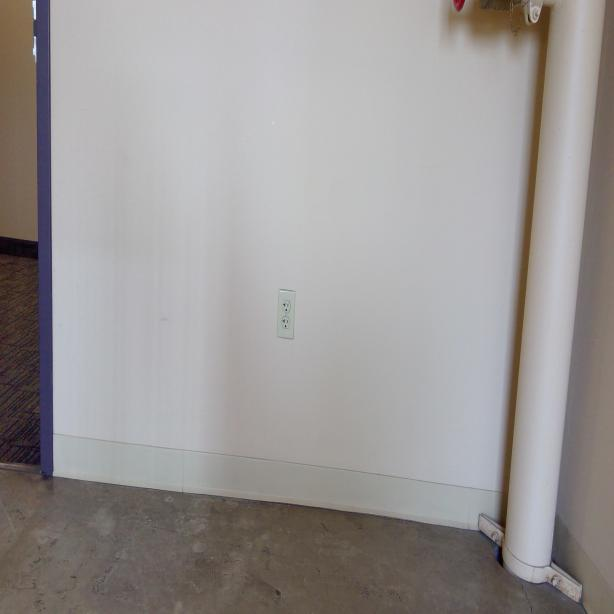typeb: (282, 315, 290, 329), (282, 299, 290, 312)
